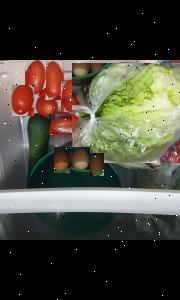Huevos: (70, 147, 89, 172), (53, 147, 69, 173), (87, 153, 103, 176)
Lechuga/Endivia: (71, 63, 180, 163)
Tomate: (71, 64, 180, 162), (44, 111, 78, 134), (24, 60, 45, 96), (43, 61, 62, 100), (11, 85, 33, 116), (48, 114, 77, 135), (60, 80, 79, 112), (34, 96, 56, 116)
